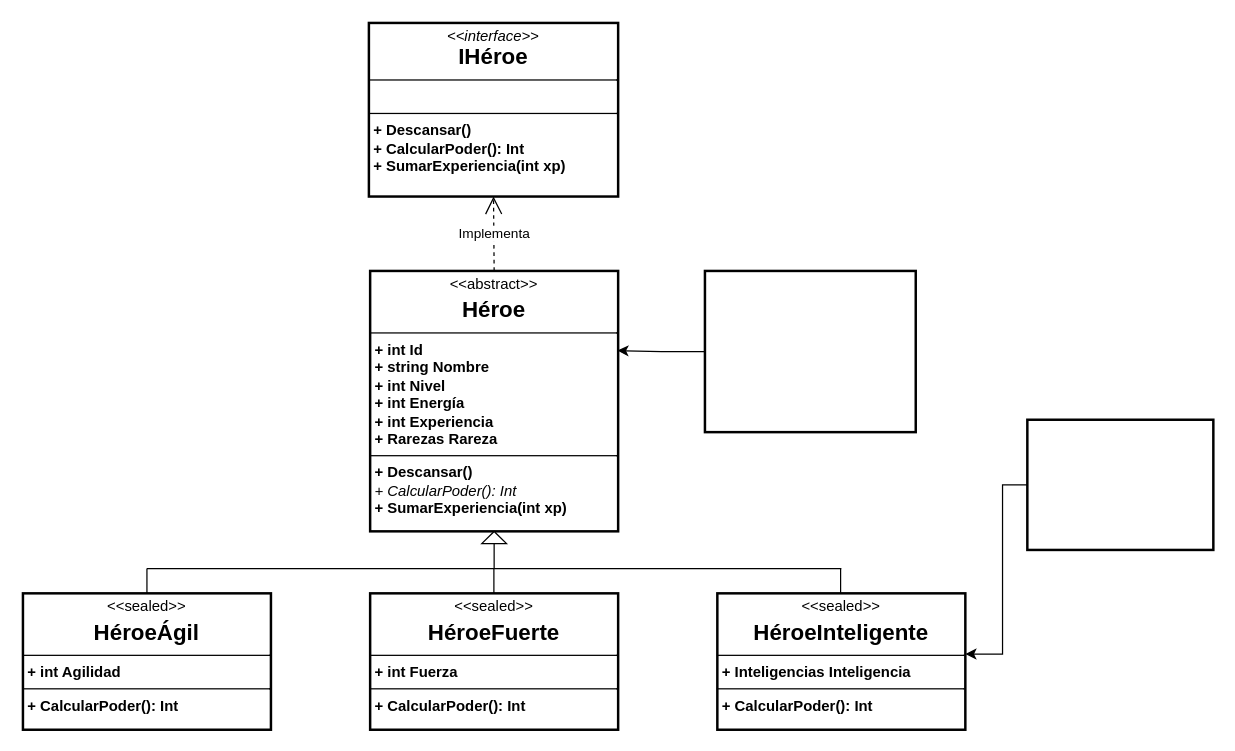
The diagram is 1235 pixels wide and 751 high, and some of its shapes have lost their labels. Each missing label, with the centre of its shape:
<<enum>> Inteligencias Baja Media Alta: the point at 1119,484
<<enum>> Rarezas Común Especial Raro Épico Legendiario: the point at 809,351
